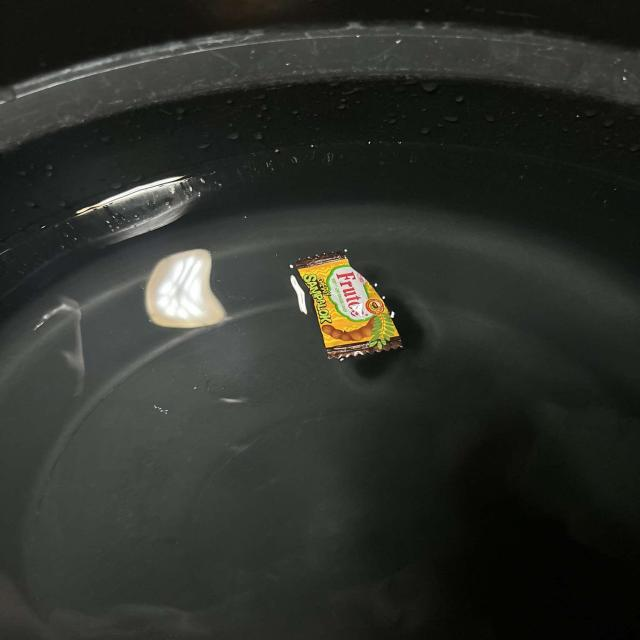Plastic Wrapper: (267, 242, 409, 366)
